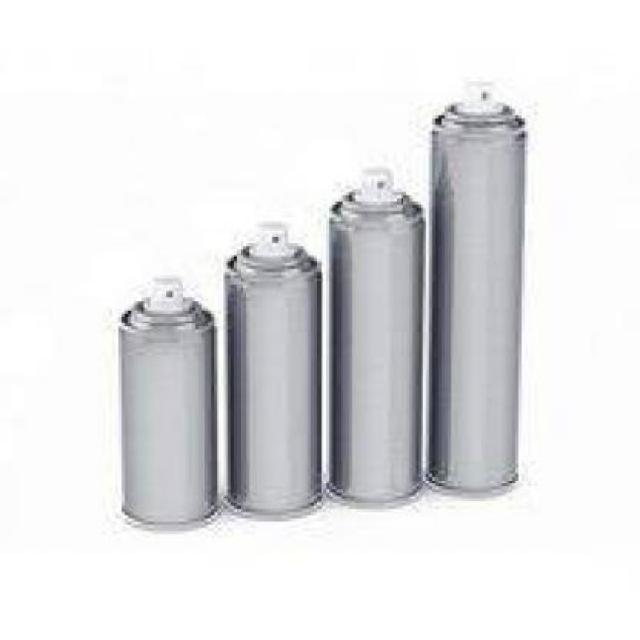METAL: (430, 83, 516, 489), (323, 166, 423, 503), (218, 217, 319, 512), (115, 278, 214, 524)
